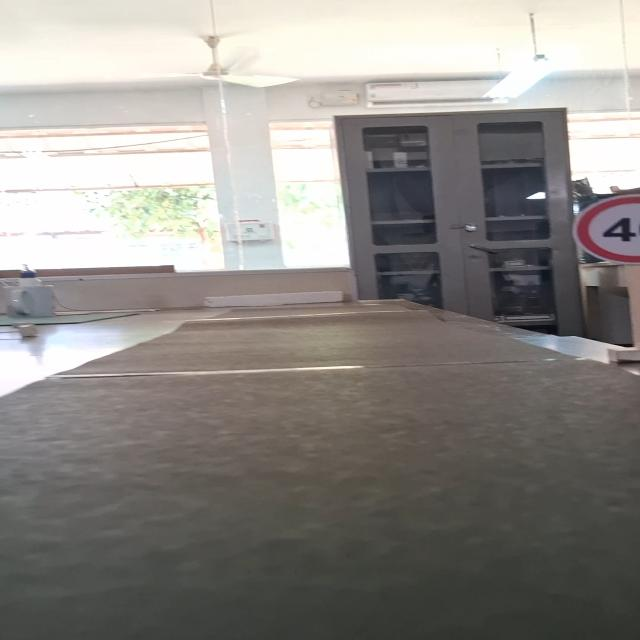Speed40: (569, 190, 640, 268)
